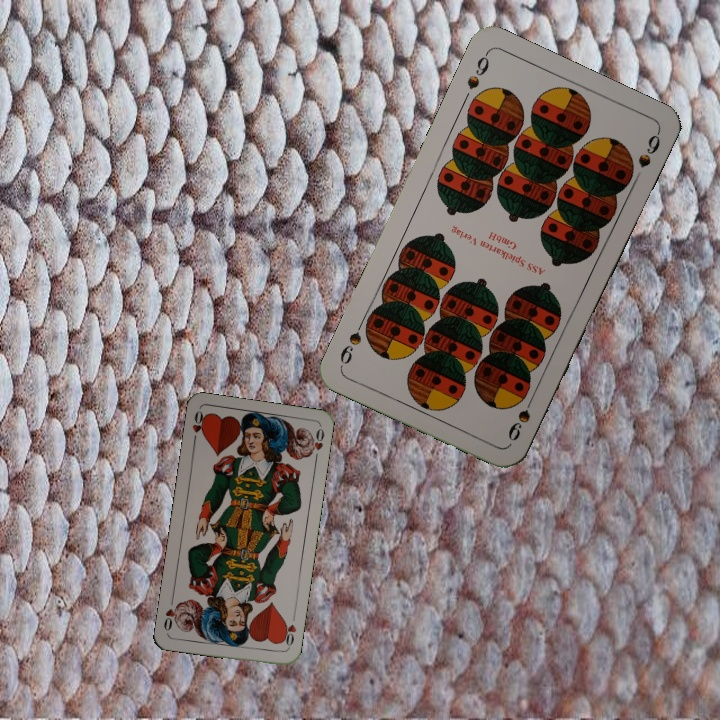HO: (278, 611, 299, 651), (188, 407, 209, 447)
S9: (503, 390, 538, 444), (462, 48, 492, 92)
